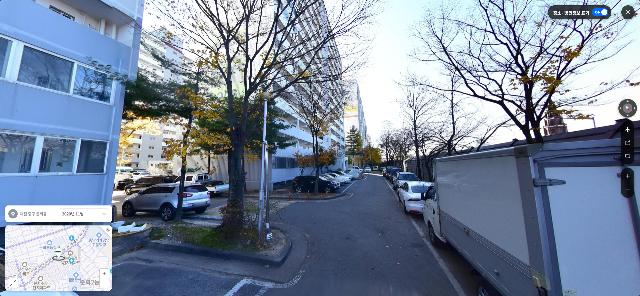ginkgo: (135, 0, 389, 237), (398, 0, 640, 146)
other: (75, 37, 220, 222), (386, 1, 512, 156), (264, 51, 369, 194), (376, 60, 454, 182), (372, 118, 409, 168)
